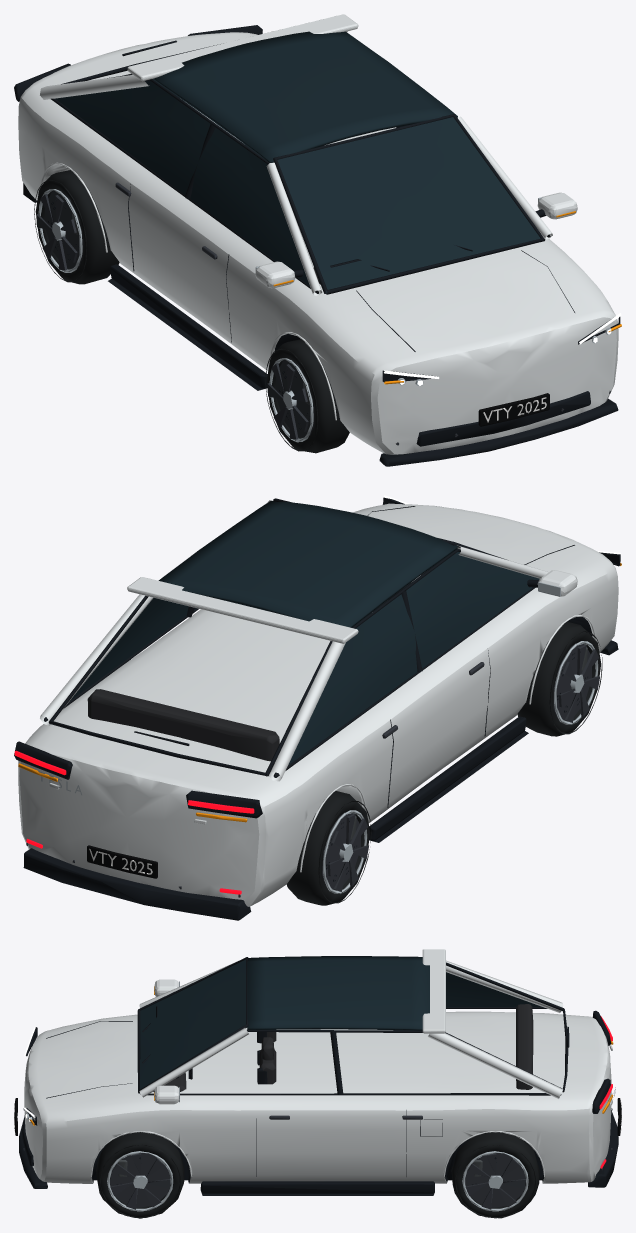
File: model-y-mid.glb
The picture shows the model from 3 angles, top to bottom: view 1: azimuth 30°, elevation 25°; view 2: azimuth 150°, elevation 25°; view 3: azimuth 270°, elevation 25°; orthographic projection. The views are drawn at different scales.
Parts seen in each view (by area): view 1: chassis.001__Automotive clearcoat, chassis.001__Solar glass, chassis.001__Satin black trim, wheel_RL.001__Tyre rubber, wheel_FL.001__Tyre rubber, wheel_FL.001__Graphite alloy, wheel_RL.001__Graphite alloy, chassis.001__Black registration plate, wheel_FL.001__Machined aluminium, wheel_RL.001__Machined aluminium; view 2: chassis.001__Automotive clearcoat, chassis.001__Solar glass, chassis.001__Satin black trim, chassis.001__Charcoal upholstery, wheel_FL.001__Tyre rubber, wheel_RL.001__Tyre rubber, wheel_RL.001__Graphite alloy, wheel_FL.001__Graphite alloy, chassis.001__Black registration plate, chassis.001__Red LED optics, wheel_RL.001__Machined aluminium, wheel_FL.001__Machined aluminium; view 3: chassis.001__Automotive clearcoat, chassis.001__Solar glass, chassis.001__Satin black trim, wheel_FR.001__Tyre rubber, wheel_RR.001__Tyre rubber, wheel_RR.001__Graphite alloy, wheel_FR.001__Graphite alloy, chassis.001__Charcoal upholstery, wheel_FR.001__Machined aluminium, wheel_RR.001__Machined aluminium.
Part boxes in pixels (x1,y1,x2,y2): chassis.001__Automotive clearcoat: (18,14,618,454); chassis.001__Solar glass: (55,31,540,292); chassis.001__Satin black trim: (14,25,620,466); wheel_RL.001__Tyre rubber: (34,170,119,284); wheel_FL.001__Tyre rubber: (265,339,349,453); wheel_FL.001__Graphite alloy: (267,360,314,439); wheel_RL.001__Graphite alloy: (36,191,83,270); chassis.001__Black registration plate: (478,393,549,426); wheel_FL.001__Machined aluminium: (269,358,313,442); wheel_RL.001__Machined aluminium: (38,189,82,272); chassis.001__Automotive clearcoat: (18,500,618,906); chassis.001__Solar glass: (69,501,539,776); chassis.001__Satin black trim: (14,497,620,920); chassis.001__Charcoal upholstery: (87,570,427,761); wheel_FL.001__Tyre rubber: (517,622,602,736); wheel_RL.001__Tyre rubber: (286,791,371,905); wheel_RL.001__Graphite alloy: (322,812,368,891); wheel_FL.001__Graphite alloy: (553,643,599,722); chassis.001__Black registration plate: (87,845,157,878); chassis.001__Red LED optics: (14,750,254,894); wheel_RL.001__Machined aluminium: (323,810,367,893); wheel_FL.001__Machined aluminium: (554,641,598,724); chassis.001__Automotive clearcoat: (24,949,611,1183); chassis.001__Solar glass: (140,956,541,1089); chassis.001__Satin black trim: (19,957,618,1195); wheel_FR.001__Tyre rubber: (96,1132,184,1218); wheel_RR.001__Tyre rubber: (451,1132,539,1218); wheel_RR.001__Graphite alloy: (465,1152,525,1209); wheel_FR.001__Graphite alloy: (110,1152,170,1209); chassis.001__Charcoal upholstery: (153,1004,533,1092); wheel_FR.001__Machined aluminium: (107,1151,173,1211); wheel_RR.001__Machined aluminium: (462,1151,528,1211).
Bounding box in the file's own units: 2.24 × 1.64 × 4.95.
